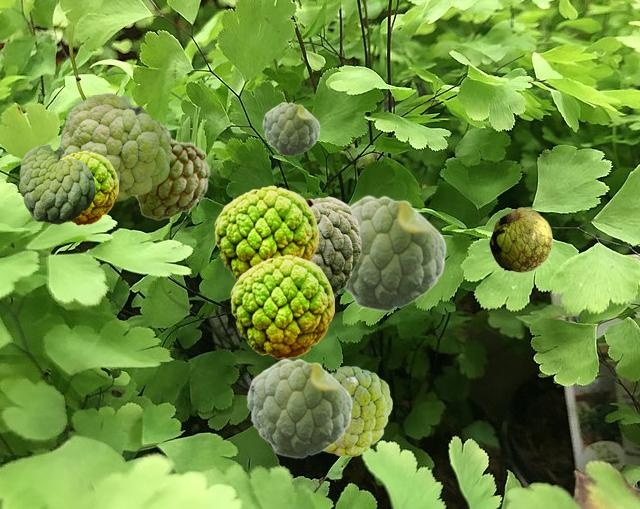atis: (342, 195, 446, 310), (60, 93, 170, 201), (230, 254, 333, 358), (246, 358, 352, 457), (214, 185, 317, 280), (135, 136, 209, 219), (324, 366, 391, 455), (19, 144, 94, 223), (306, 196, 360, 299), (61, 150, 117, 224), (489, 207, 551, 271), (262, 102, 319, 155)
